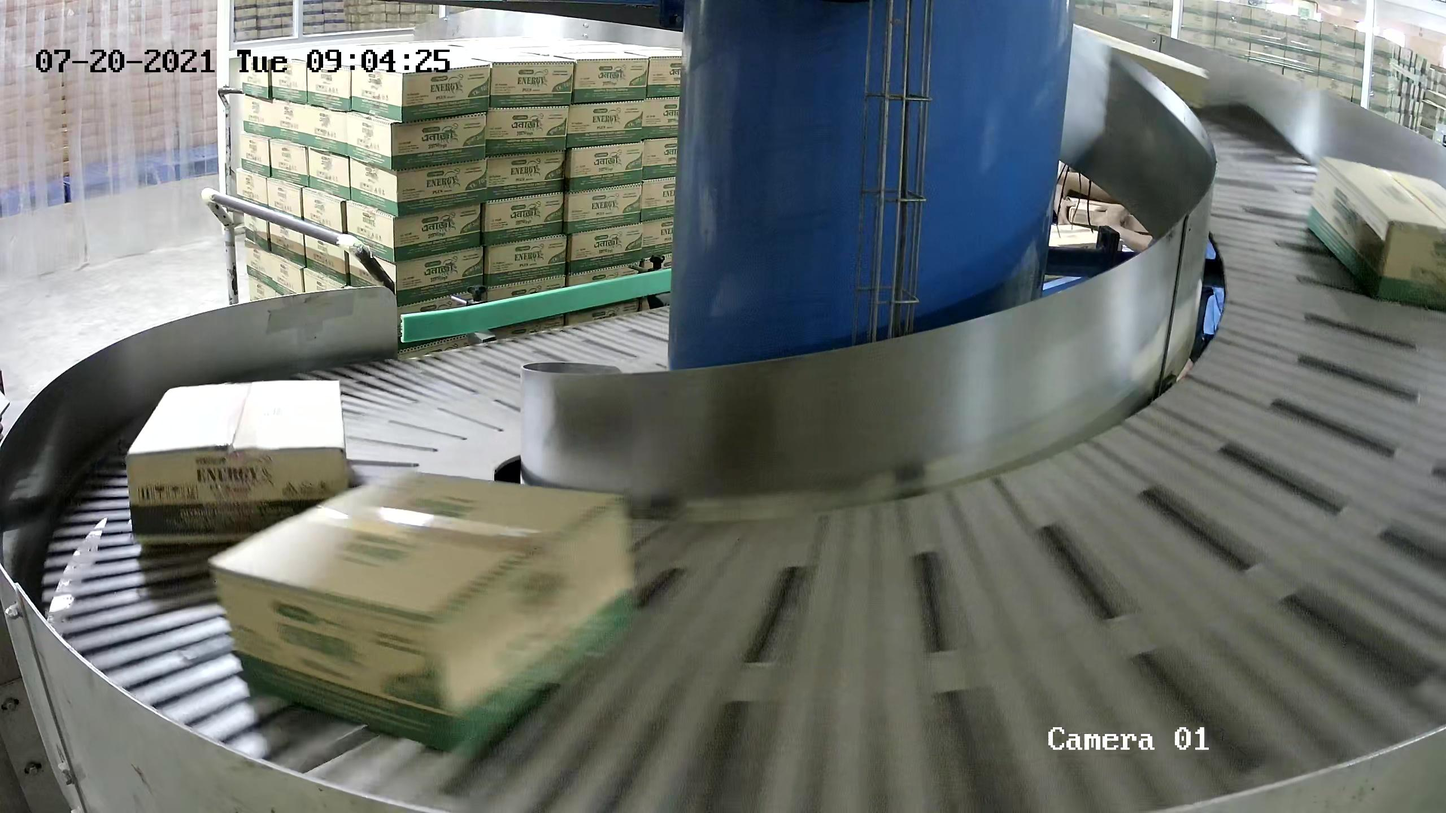Box: (205, 464, 644, 759), (125, 377, 350, 547), (1304, 154, 1446, 312)
